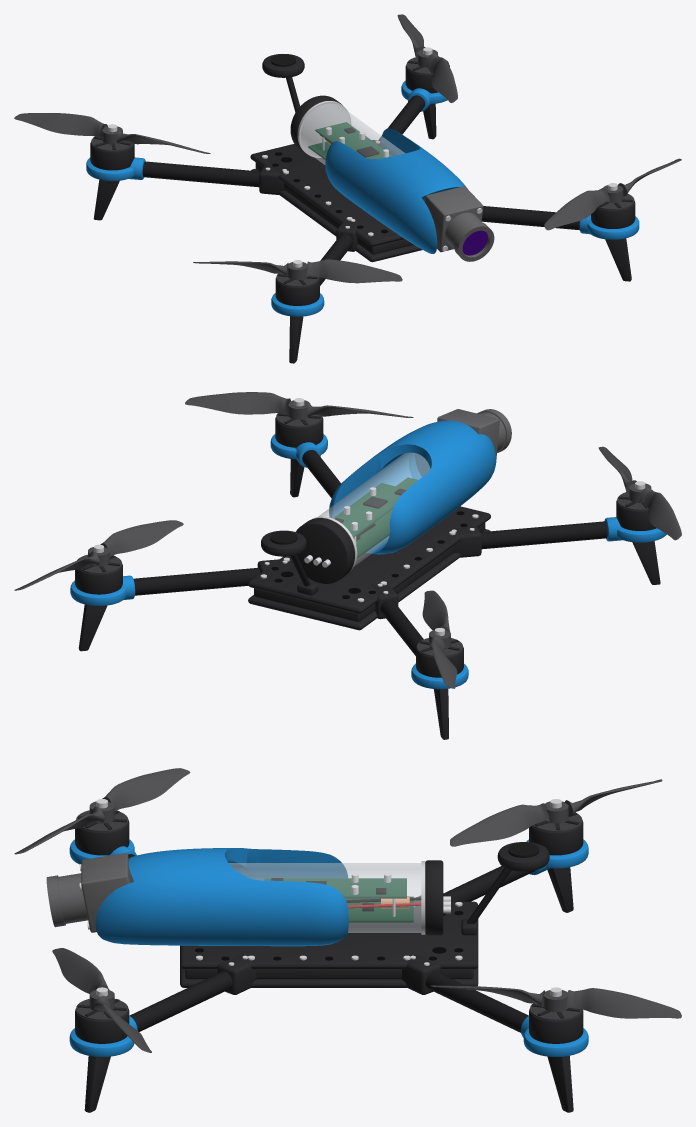
File: quadcopter-DKNdAUCK.glb
The picture shows the model from 3 angles, top to bottom: view 1: azimuth 30°, elevation 25°; view 2: azimuth 150°, elevation 25°; view 3: azimuth 270°, elevation 25°; orthographic projection. The views are drawn at different scales.
Parts seen in each view (by area): view 1: Quadcopter, propeller-ccw-1, propeller-cw-3, propeller-cw-0, propeller-ccw-2; view 2: Quadcopter, propeller-cw-0, propeller-ccw-2, propeller-ccw-1, propeller-cw-3; view 3: Quadcopter, propeller-ccw-2, propeller-cw-3, propeller-ccw-1, propeller-cw-0.
Boxes of the visible parts, box(x1,y1,x2,y2) form: Quadcopter: box(86, 47, 639, 363); propeller-ccw-1: box(193, 259, 402, 283); propeller-cw-3: box(14, 113, 210, 153); propeller-cw-0: box(544, 158, 681, 230); propeller-ccw-2: box(397, 14, 457, 102); Quadcopter: box(70, 398, 666, 739); propeller-cw-0: box(185, 392, 413, 419); propeller-ccw-2: box(14, 520, 183, 590); propeller-ccw-1: box(598, 446, 681, 540); propeller-cw-3: box(422, 590, 457, 688); Quadcopter: box(46, 799, 588, 1112); propeller-ccw-2: box(430, 985, 681, 1018); propeller-cw-3: box(450, 779, 662, 846); propeller-ccw-1: box(14, 768, 190, 854); propeller-cw-0: box(52, 948, 151, 1052).
Bounding box in the file's own units: 0.5151 × 0.138 × 0.5151.
